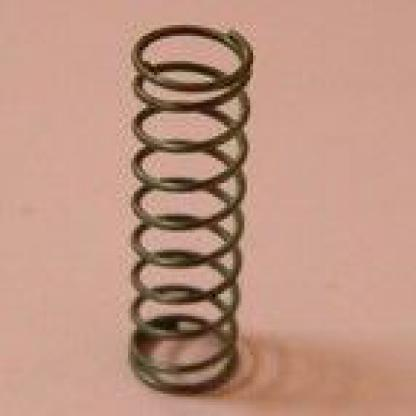FOD: (124, 14, 263, 402)
